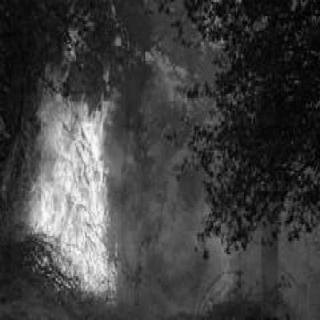Fire: (5, 17, 129, 306)
